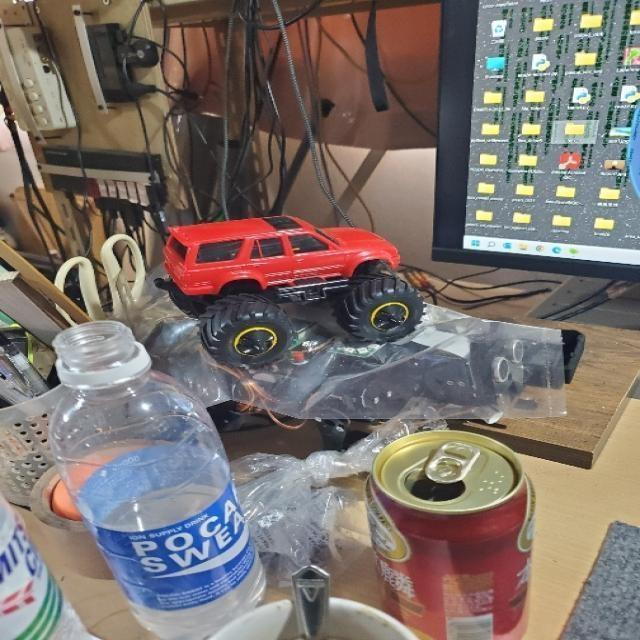Car: (130, 186, 457, 382)
